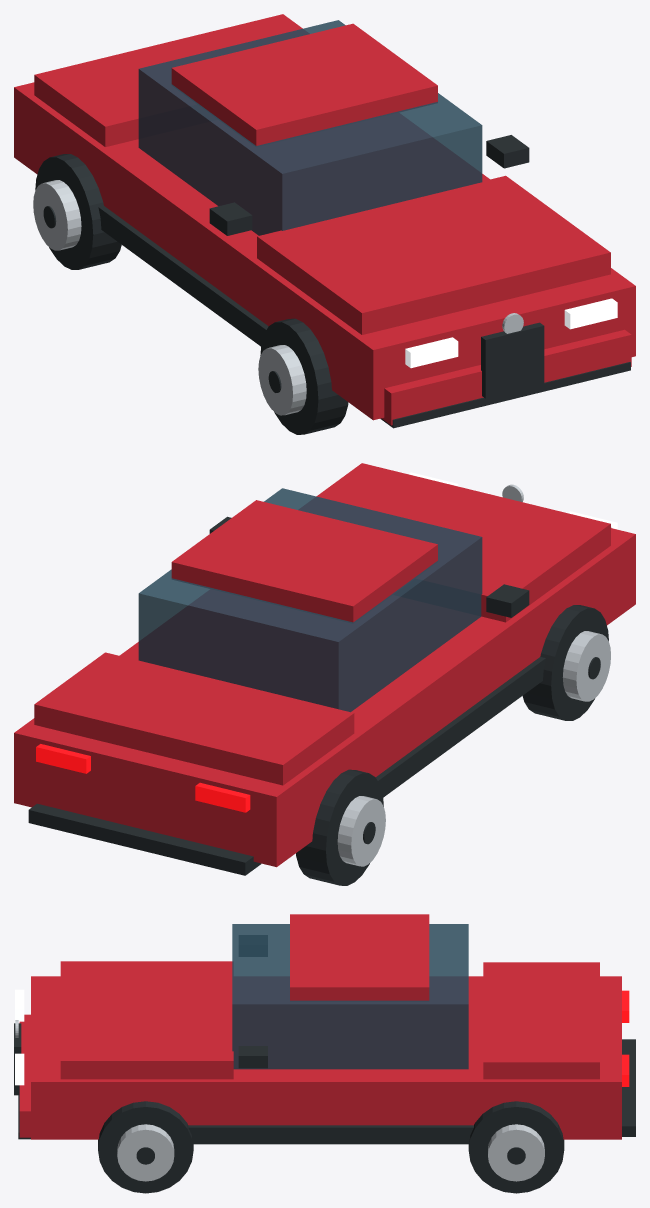
Rendered from alfa_romeo_giulia_concept.glb.
3 views of the same model, one above another, from view 1: azimuth 30°, elevation 25°; view 2: azimuth 150°, elevation 25°; view 3: azimuth 270°, elevation 25° (orthographic). The views are drawn at different scales.
Parts seen in each view (by area): view 1: Giulia concept lower body, Long bonnet, Dark cabin glass, Roof, Rear deck, Front bumper, front tire -1, Side sill -1, rear tire -1, Triangular signature grille, front alloy -1, rear alloy -1 (+5 smaller); view 2: Giulia concept lower body, Dark cabin glass, Rear deck, Roof, Long bonnet, Rear diffuser, rear tire -1, Side sill -1, front tire -1, rear alloy -1, front alloy -1, Mirror -1 (+2 smaller); view 3: Giulia concept lower body, Dark cabin glass, Long bonnet, Rear deck, Roof, Side sill 1, front tire 1, rear tire 1, front alloy 1, rear alloy 1, Front bumper, Rear diffuser (+1 smaller).
Boxes of the visible parts, bbox=[...] form: Giulia concept lower body: bbox=[14, 82, 635, 420]; Long bonnet: bbox=[257, 175, 610, 334]; Dark cabin glass: bbox=[138, 20, 482, 235]; Roof: bbox=[171, 23, 437, 145]; Rear deck: bbox=[34, 14, 302, 146]; Front bumper: bbox=[382, 329, 631, 425]; front tire -1: bbox=[260, 318, 348, 434]; Side sill -1: bbox=[98, 206, 268, 346]; rear tire -1: bbox=[35, 154, 121, 269]; Triangular signature grille: bbox=[481, 322, 544, 398]; front alloy -1: bbox=[258, 345, 306, 415]; rear alloy -1: bbox=[33, 180, 81, 250]; Giulia concept lower body: bbox=[14, 528, 635, 867]; Dark cabin glass: bbox=[138, 488, 482, 712]; Rear deck: bbox=[34, 652, 354, 785]; Roof: bbox=[171, 500, 437, 622]; Long bonnet: bbox=[316, 463, 610, 622]; Rear diffuser: bbox=[28, 803, 261, 875]; rear tire -1: bbox=[296, 769, 383, 885]; Side sill -1: bbox=[376, 657, 545, 797]; front tire -1: bbox=[522, 605, 608, 720]; rear alloy -1: bbox=[337, 796, 385, 866]; front alloy -1: bbox=[562, 631, 610, 701]; Mirror -1: bbox=[486, 584, 529, 617]; Giulia concept lower body: bbox=[31, 976, 621, 1139]; Dark cabin glass: bbox=[232, 924, 468, 1069]; Long bonnet: bbox=[60, 961, 233, 1079]; Rear deck: bbox=[483, 962, 599, 1079]; Roof: bbox=[290, 914, 429, 1000]; Side sill 1: bbox=[188, 1125, 473, 1144]; front tire 1: bbox=[98, 1101, 193, 1193]; rear tire 1: bbox=[468, 1101, 564, 1193]; front alloy 1: bbox=[117, 1124, 174, 1181]; rear alloy 1: bbox=[488, 1124, 544, 1181]; Front bumper: bbox=[19, 1014, 30, 1137]; Rear diffuser: bbox=[622, 1039, 635, 1136].
Bounding box in the file's own units: 2.3 × 1.53 × 4.68.
